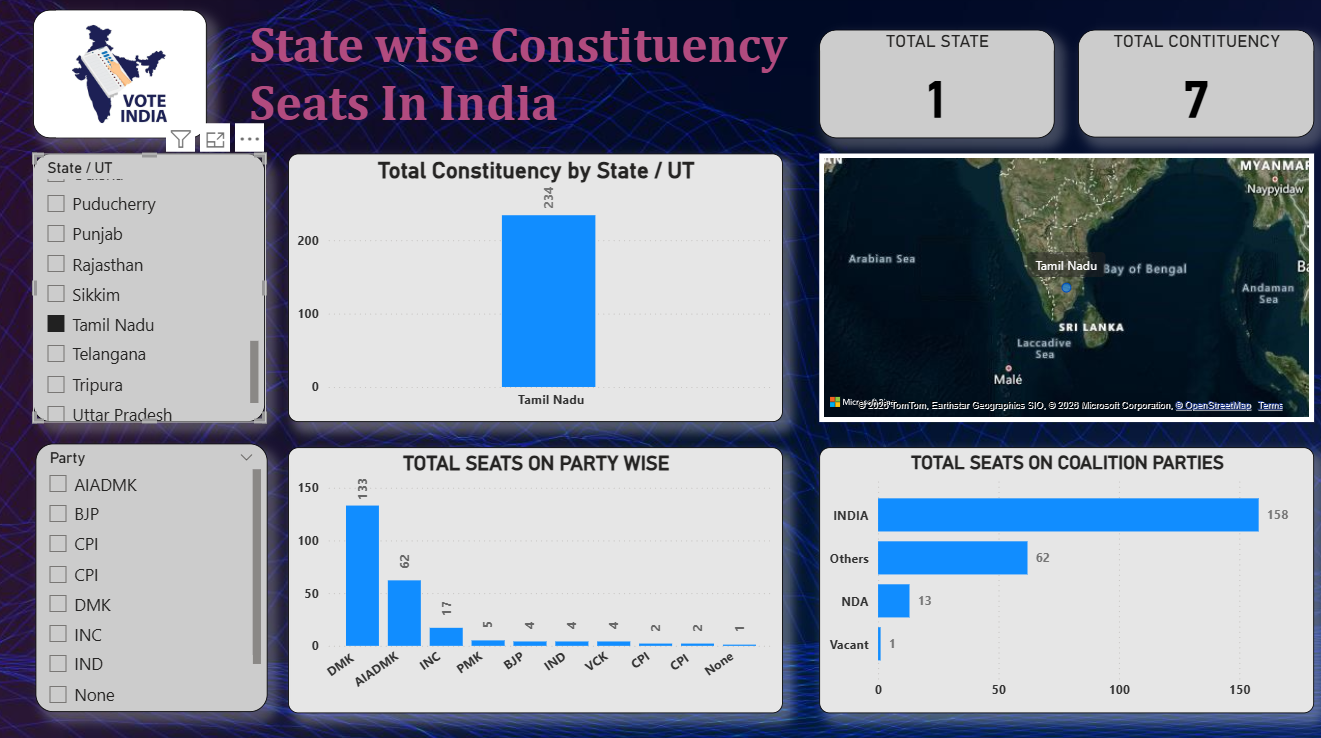

Layout of this report page (visuals, bound fields, positions):
{"tool":"powerbi","page":{"name":"Page 1","canvas":[1280,720],"ordinal":0},"visuals":[{"type":"card","title":"TOTAL STATE","fields":{"Values":["Count(Data.State / UT)"]},"box":[792.6,32.6,226.8,105],"z":0},{"type":"card","title":"TOTAL CONTITUENCY","fields":{"Values":["Count(Data.Total Constituency)"]},"box":[1042.4,32.6,228,103.8],"z":1000},{"type":"columnChart","title":"Total Constituency by State / UT","fields":{"Category":["Data.State / UT"],"Y":["Sum(Data.Total Constituency)"]},"box":[279.9,152.3,477.5,259.3],"z":2000},{"type":"map","fields":{"Category":["Data.State / UT"]},"box":[793.1,152.3,477.5,259.3],"z":3000},{"type":"columnChart","title":"TOTAL SEATS ON PARTY WISE","fields":{"Y":["Sum(Data.Total Constituency)"],"Category":["Data.Party"]},"box":[279.9,435,477.5,256.6],"z":4000},{"type":"clusteredBarChart","title":"TOTAL SEATS ON COALITION PARTIES","fields":{"Category":["Data.NDA / INDI"],"Y":["Sum(Data.Total Constituency)"]},"box":[793.1,435,477.5,256.6],"z":5000},{"type":"slicer","fields":{"Values":["Data.State / UT"]},"box":[34.3,152.3,223.7,259.3],"z":6000},{"type":"slicer","fields":{"Values":["Data.Party"]},"box":[35.7,432.2,223.7,259.3],"z":7000},{"type":"textbox","box":[237.4,13.7,544.8,138.6],"z":8000},{"type":"image","box":[33.8,13.3,167.7,124.3],"z":9000}]}

Visuals, with their boxes in screenshot pixels (x1, y1, x2, y2), scaled from the page's 1280x720 canvas onto the 1321x738 screenshot:
"TOTAL STATE" card: x1=818, y1=33, x2=1052, y2=141
"TOTAL CONTITUENCY" card: x1=1076, y1=33, x2=1311, y2=140
"Total Constituency by State / UT" columnChart: x1=289, y1=156, x2=782, y2=422
map - Data.State / UT: x1=819, y1=156, x2=1311, y2=422
"TOTAL SEATS ON PARTY WISE" columnChart: x1=289, y1=446, x2=782, y2=709
"TOTAL SEATS ON COALITION PARTIES" clusteredBarChart: x1=819, y1=446, x2=1311, y2=709
slicer - Data.State / UT: x1=35, y1=156, x2=266, y2=422
slicer - Data.Party: x1=37, y1=443, x2=268, y2=709
textbox: x1=245, y1=14, x2=807, y2=156
image: x1=35, y1=14, x2=208, y2=141
